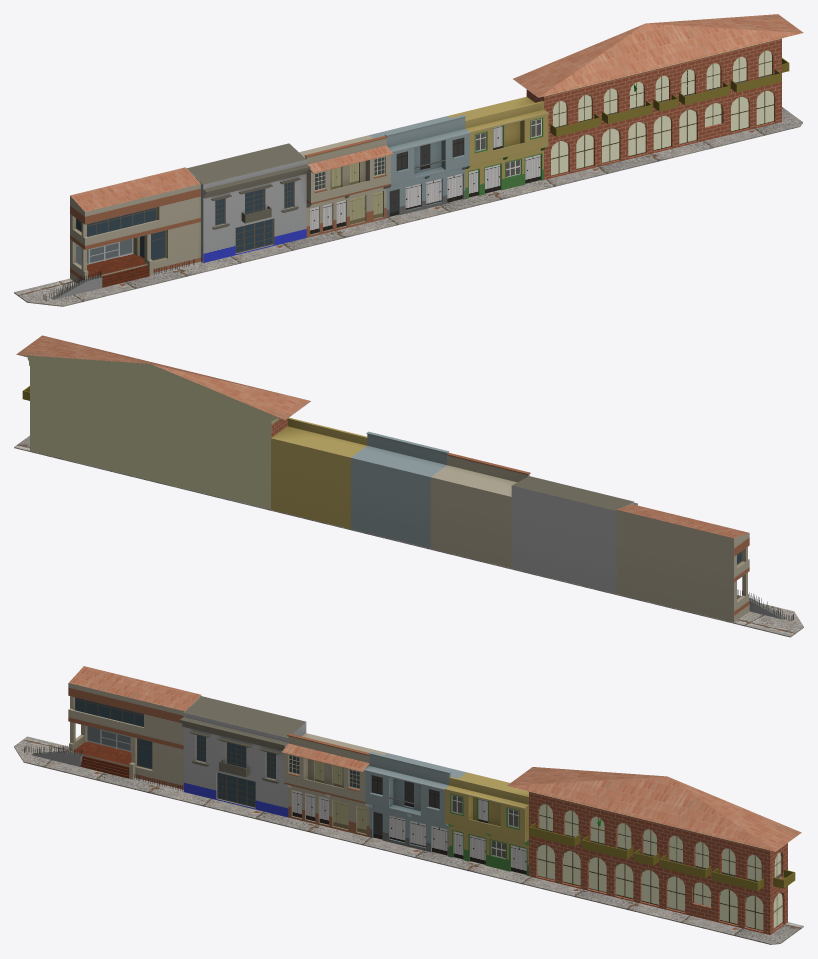
File: Cuadra4.fbx
3 views of the same model, one above another, from view 1: azimuth 30°, elevation 25°; view 2: azimuth 150°, elevation 25°; view 3: azimuth 330°, elevation 25° (orthographic).
Parts seen in each view (by area): view 1: polySurface126, polySurface97, polySurface100, polySurface1, polySurface114, polySurface109, polySurface121, polySurface6; view 2: polySurface126, polySurface97, polySurface100, polySurface114, polySurface109, polySurface121, polySurface1; view 3: polySurface126, polySurface97, polySurface100, polySurface1, polySurface114, polySurface109, polySurface121, polySurface129, polySurface131, polySurface128, polySurface132.
Boxes of the visible parts, left/top/right/bottom form: polySurface126: left=513, top=14, right=803, bottom=179; polySurface97: left=70, top=167, right=200, bottom=283; polySurface100: left=187, top=143, right=310, bottom=262; polySurface1: left=14, top=107, right=802, bottom=306; polySurface114: left=369, top=115, right=470, bottom=218; polySurface109: left=299, top=135, right=393, bottom=237; polySurface121: left=448, top=96, right=548, bottom=198; polySurface6: left=51, top=275, right=102, bottom=299; polySurface126: left=16, top=335, right=310, bottom=509; polySurface97: left=616, top=504, right=749, bottom=622; polySurface100: left=511, top=476, right=637, bottom=593; polySurface114: left=351, top=431, right=449, bottom=548; polySurface109: left=430, top=453, right=530, bottom=568; polySurface121: left=271, top=417, right=367, bottom=528; polySurface1: left=14, top=435, right=803, bottom=637; polySurface126: left=507, top=767, right=801, bottom=934; polySurface97: left=68, top=666, right=201, bottom=789; polySurface100: left=180, top=696, right=306, bottom=817; polySurface1: left=14, top=736, right=803, bottom=944; polySurface114: left=364, top=752, right=466, bottom=856; polySurface109: left=281, top=733, right=386, bottom=837; polySurface121: left=444, top=772, right=528, bottom=875; polySurface129: left=659, top=854, right=711, bottom=878; polySurface131: left=581, top=835, right=633, bottom=859; polySurface128: left=712, top=867, right=763, bottom=891; polySurface132: left=529, top=823, right=580, bottom=846.
Size of the model in its own units: 247 by 35.68 by 16.97.
3 materials, 3 textured.
